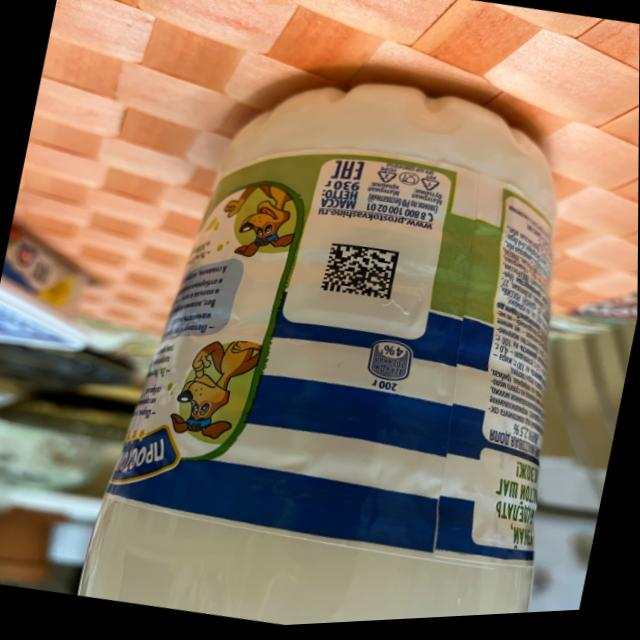datamatrix: (321, 242, 401, 308)
